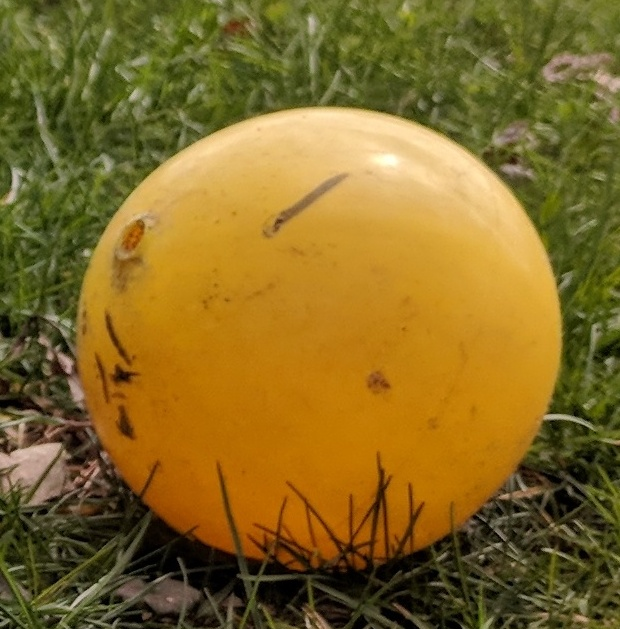ball: (74, 108, 561, 574)
